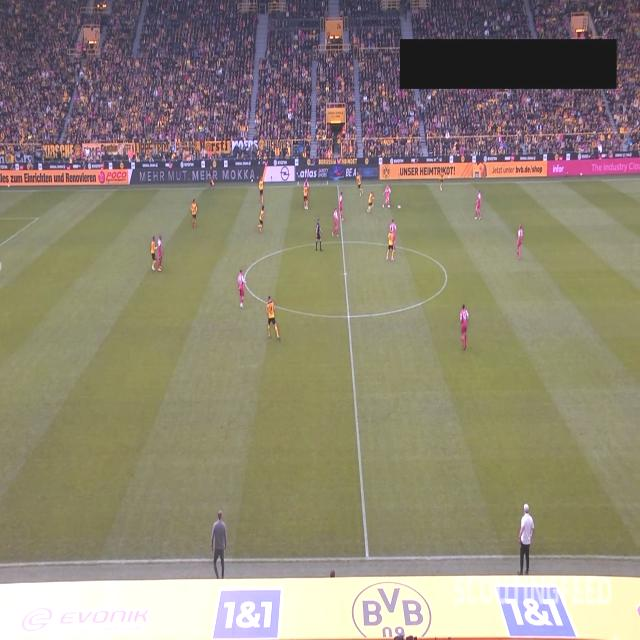ball: (396, 202, 404, 214)
f_player: (264, 296, 280, 341), (458, 303, 470, 349), (387, 218, 399, 262), (151, 234, 165, 270), (236, 268, 246, 306), (302, 176, 312, 212), (515, 224, 524, 260), (474, 190, 483, 220), (338, 193, 348, 220), (332, 205, 340, 237), (190, 198, 198, 228), (258, 207, 266, 235), (258, 176, 266, 203), (382, 186, 391, 208), (356, 172, 364, 196), (440, 168, 446, 192), (368, 193, 374, 213)
umpire: (314, 220, 322, 252)
